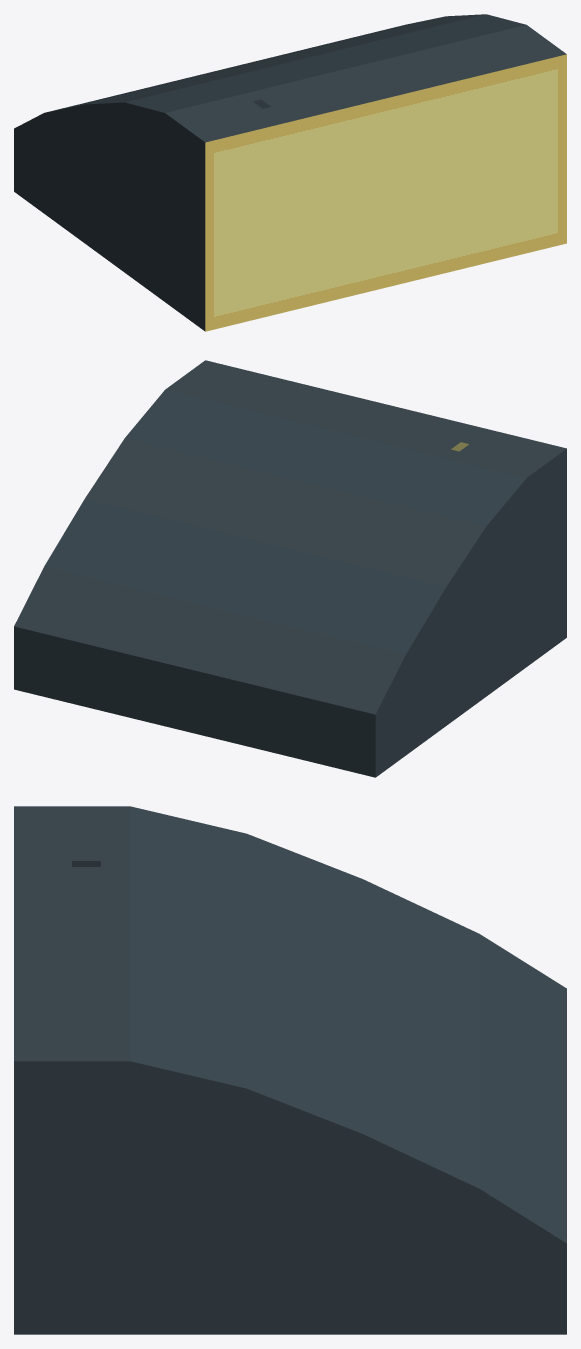
The model's file is JST_Prototype Map.gltf.
The picture shows the model from 3 angles, top to bottom: view 1: azimuth 30°, elevation 25°; view 2: azimuth 150°, elevation 25°; view 3: azimuth 270°, elevation 25°; orthographic projection. The views are drawn at different scales.
Parts seen in each view (by area): view 1: Map Screen; view 2: Map Screen; view 3: Map Screen.
Boxes of the visible parts, x1,y1,x2,y2 form: Map Screen: [14, 14, 566, 331]; Map Screen: [14, 360, 566, 777]; Map Screen: [14, 806, 566, 1334].
Bounding box in the file's own units: 0.75 × 0.375 × 0.6875.
1 material, 1 textured.
